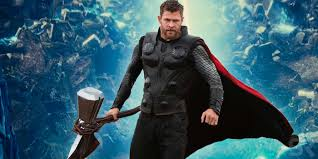THOR Hammer: (66, 84, 143, 158)
